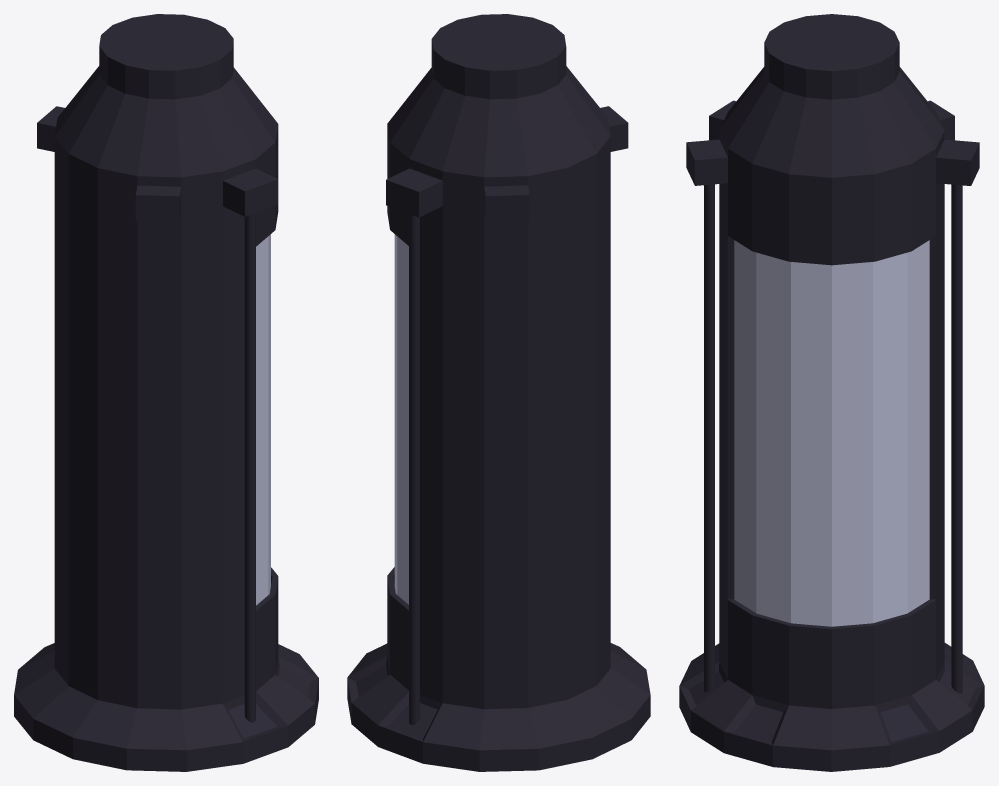
File: stasis_chamber.fbx
3 renders of one model, left to right at view 1: azimuth 30°, elevation 25°; view 2: azimuth 150°, elevation 25°; view 3: azimuth 270°, elevation 25°, orthographic.
Parts seen in each view (by area): view 1: Back, Cap, Base, support-L, glass; view 2: Back, Cap, Base, support-R, glass; view 3: glass, Cap, Back, Base, support-R, support-L.
Boxes of the visible parts, box(x1,y1,x2,y2) form: Back: box(54, 160, 278, 683); Cap: box(37, 14, 278, 221); Base: box(14, 632, 318, 771); support-L: box(244, 213, 255, 722); glass: box(256, 234, 270, 605); Back: box(387, 161, 610, 683); Cap: box(386, 14, 628, 221); Base: box(347, 632, 650, 771); support-R: box(409, 214, 419, 724); glass: box(394, 234, 408, 604); glass: box(734, 240, 929, 626); Cap: box(686, 14, 979, 212); Back: box(719, 183, 944, 683); Base: box(679, 636, 984, 771); support-R: box(951, 184, 962, 693); support-L: box(704, 184, 714, 692).
Size of the model in its own units: 272 by 651 by 271.
